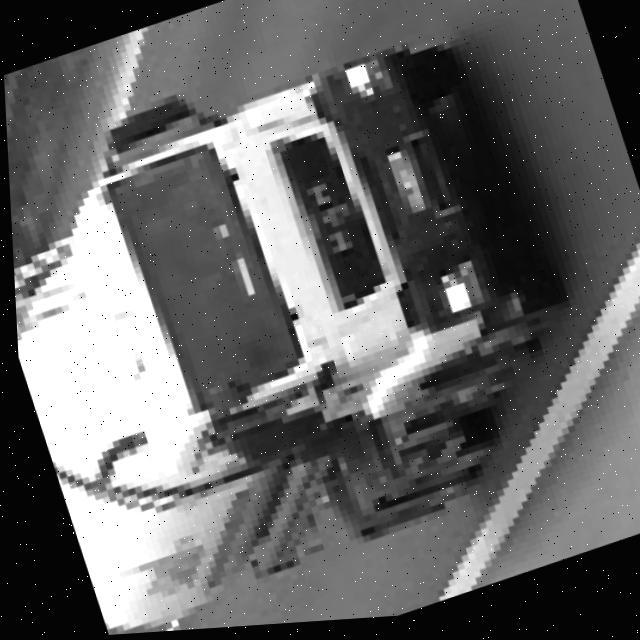truck: (2, 5, 606, 635)
